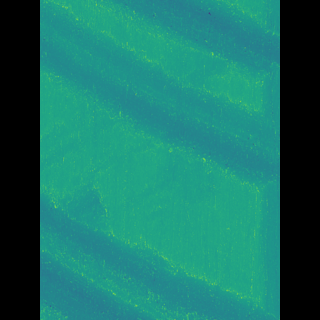Loch: (70, 0, 249, 189), (70, 193, 247, 320)
